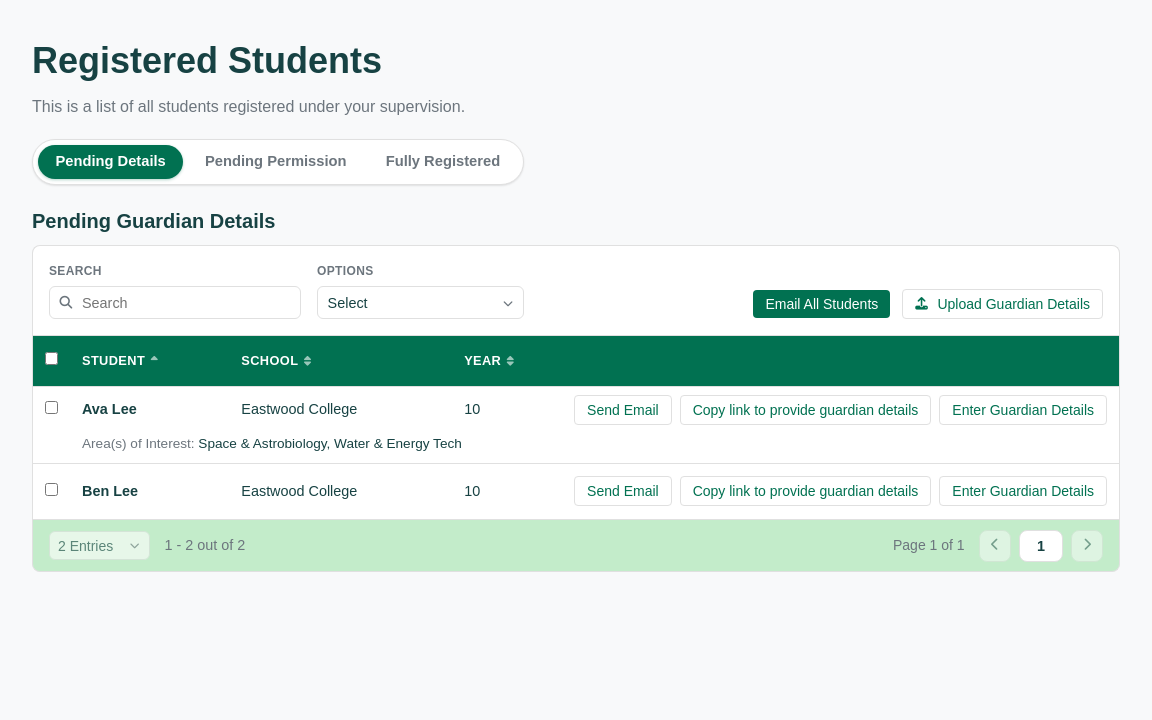
Scenario: SupervisorStudentsPage › emails › emails the ticked students from the selection bar
Click the checkbox named "Select Ava Lee" at {"x": 52, "y": 408}, box [45, 401, 58, 414]
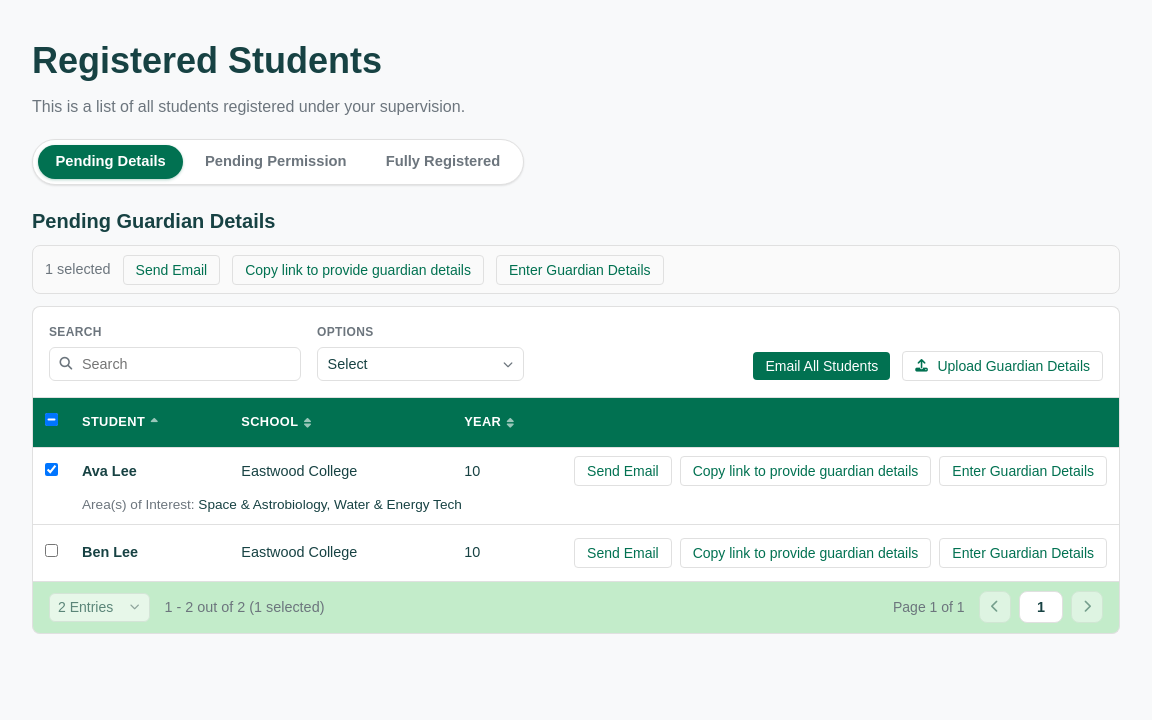
Click the checkbox named "Select Ben Lee" at {"x": 52, "y": 551}, box [45, 544, 58, 557]
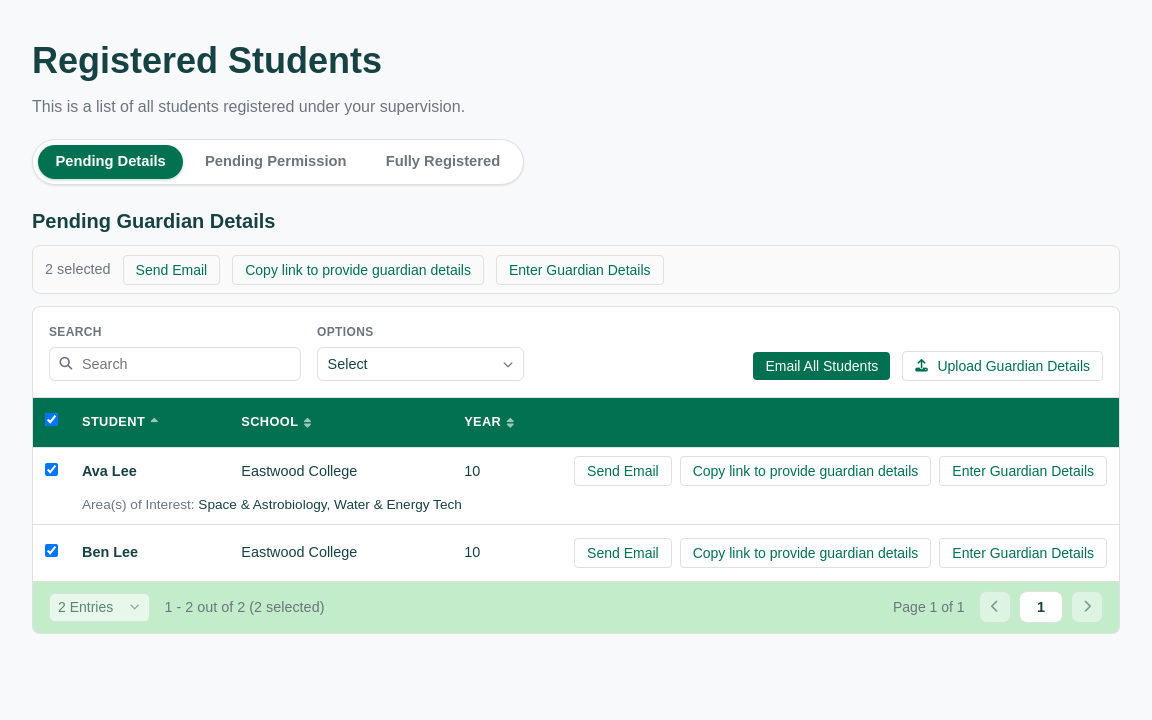
Expected: the element with class "data-table-bulk" shows "2 selected", [45, 261, 111, 277]
Click the 1st button "Send Email" at {"x": 171, "y": 270}, box [123, 254, 220, 284]
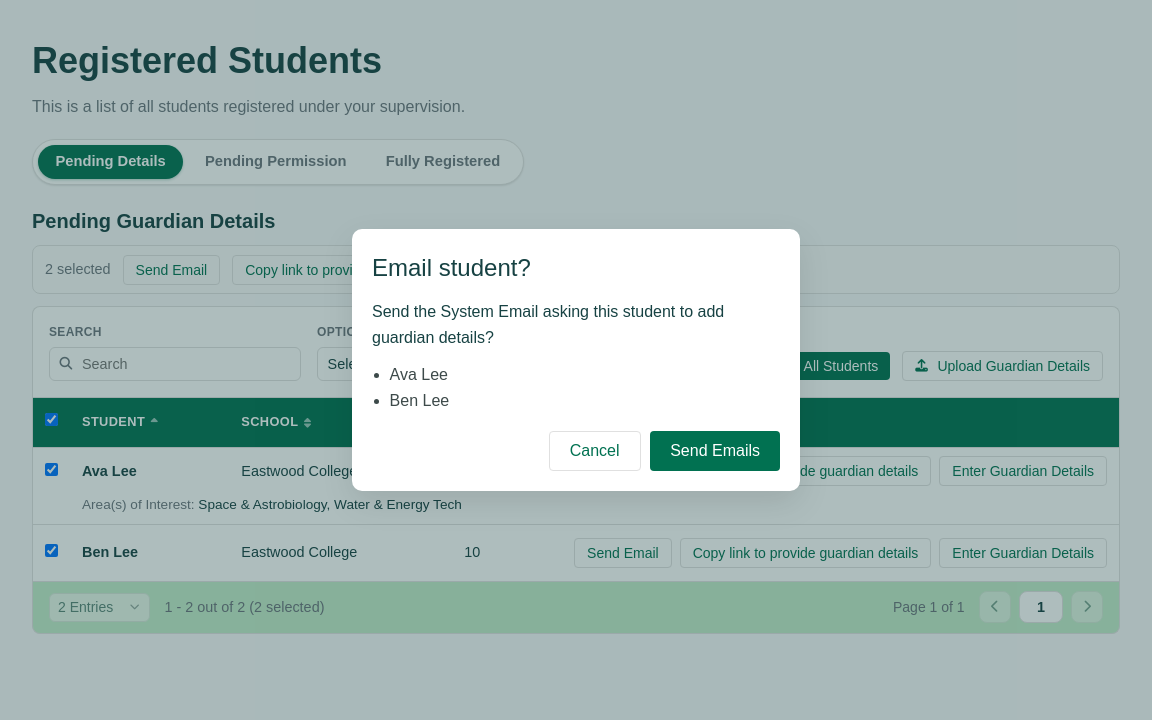
Click the button "Send Emails" at {"x": 715, "y": 451}, box [650, 431, 780, 471]
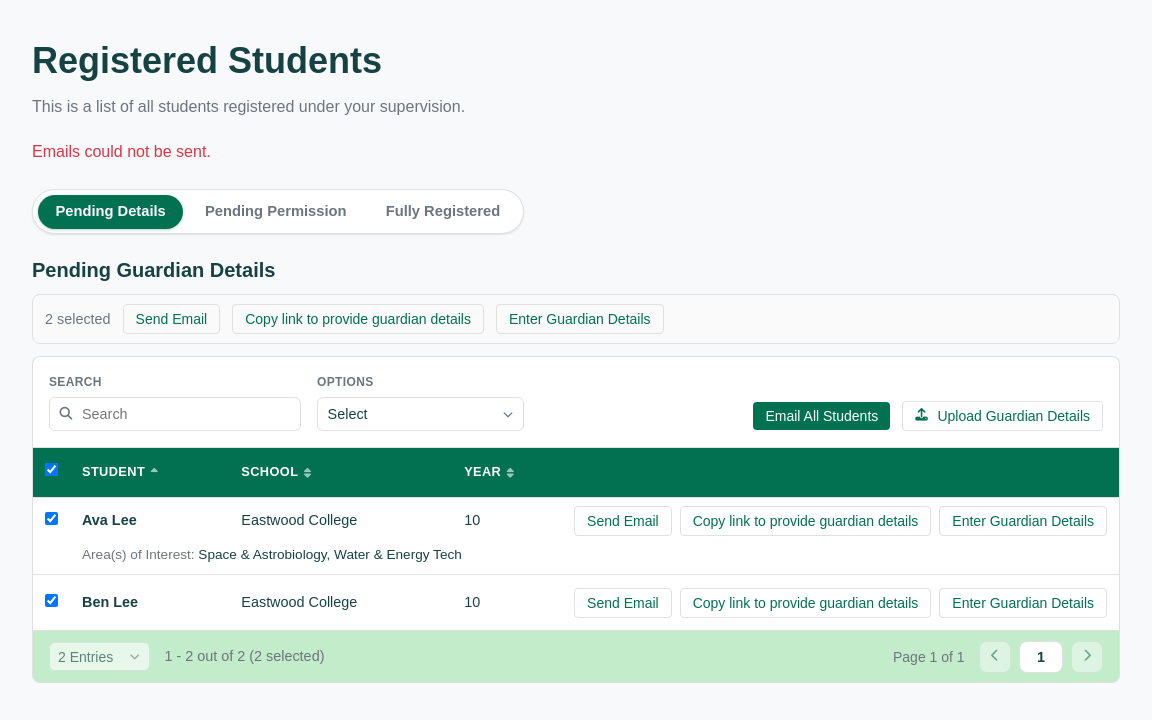
Expected: the text with class "supervisor-error" reads "Emails could not be sent.", [32, 143, 211, 160]
